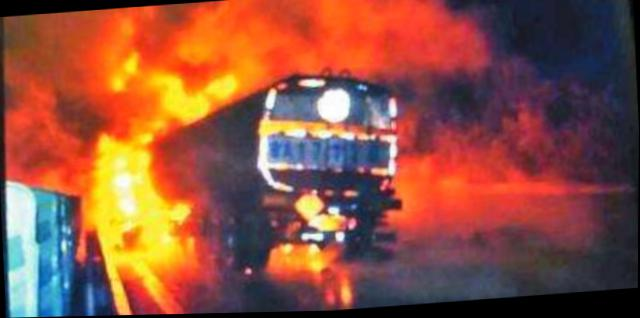fire: (74, 55, 255, 279)
